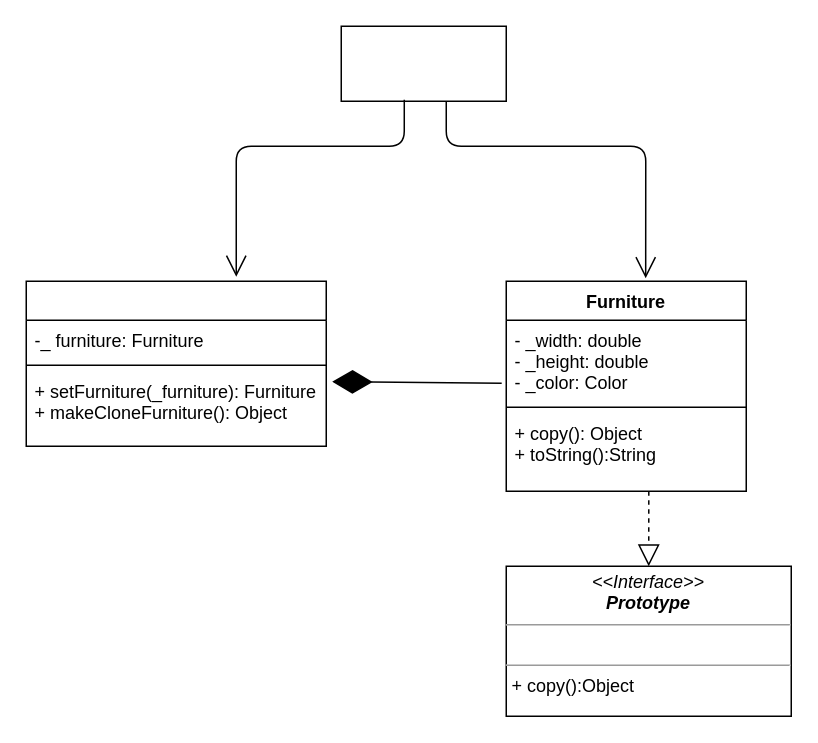
Some shapes in this 818 by 743 pixel diagram are drawn without their labels. The box of each missing label's shape, as (x1, y1, x2, y2) in pixels:
Client: (340, 25, 506, 101)
FurnitureFactory: (25, 280, 326, 446)
